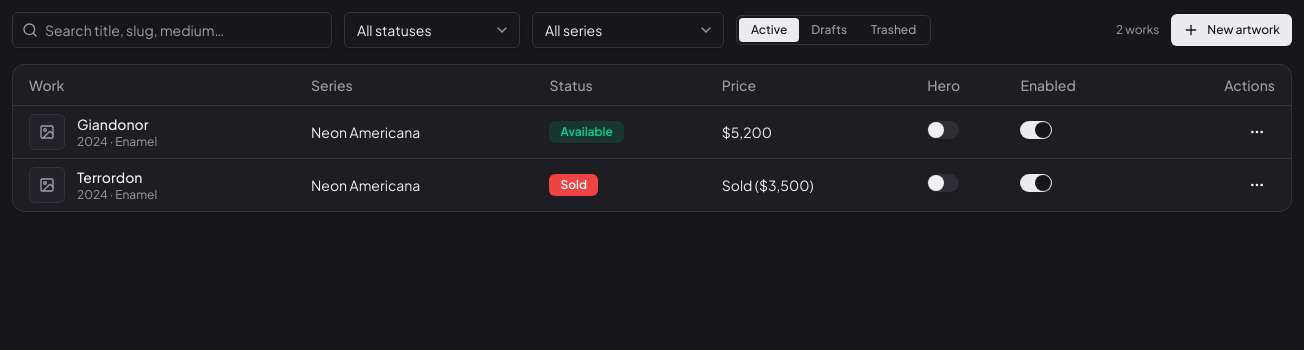
<CatalogView/> fixed contracts › FIXED: row menu is portal-rendered (role="menu") — immune to table overflow clipping
The width and height of the screenshot is (1304, 350).
Click the button named "actions for" at (1257, 132), box [1239,114,1275,150]
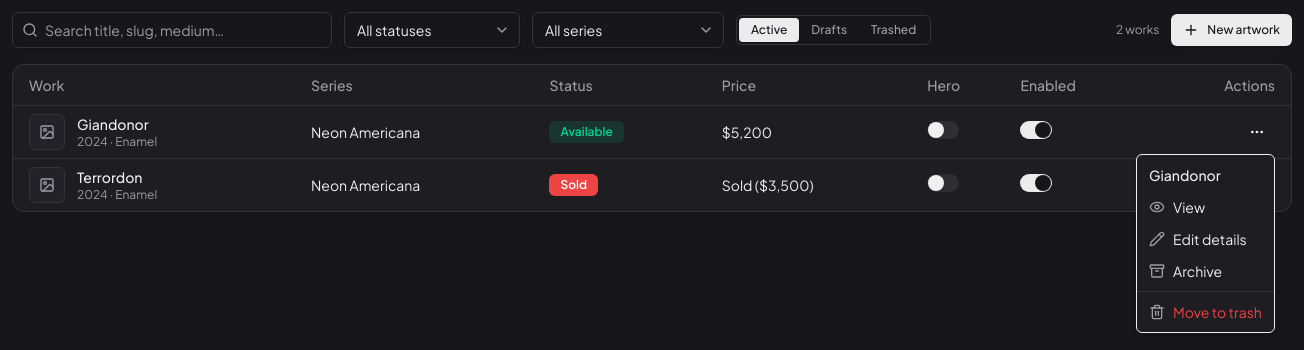
Expected: the element with class "overflow-auto" is shown, [13,65,1291,210]
Expected: the menu item "Edit details" is shown, [1149,230,1247,248]
